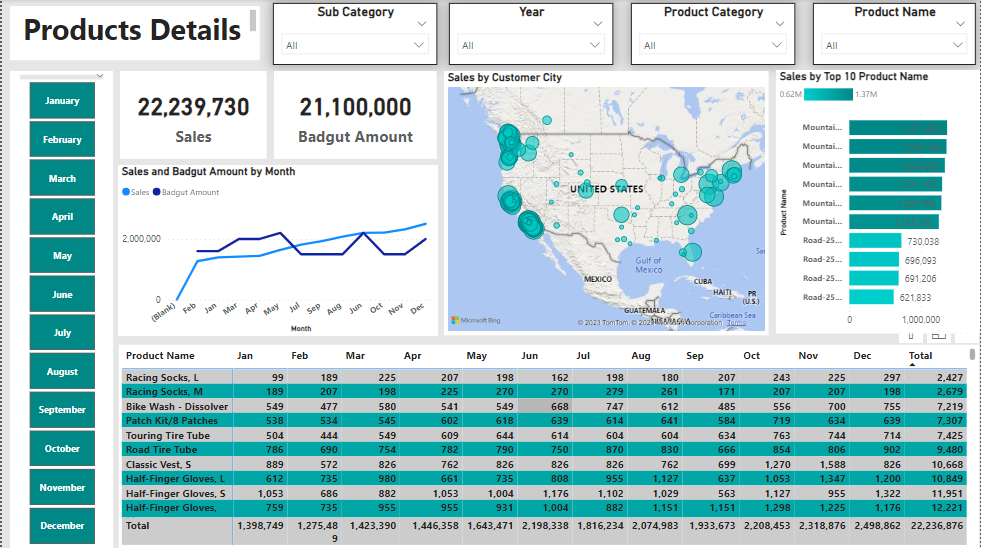

What the dashboard file says about the page in this screenshot:
{"tool":"powerbi","page":{"name":"Products Details","canvas":[1280,720],"ordinal":2},"visuals":[{"type":"textbox","box":[10.5,9.2,327.3,70.7],"z":0},{"type":"slicer","title":"Product Name","fields":{"Values":["DIM_Products.Product Name"]},"box":[1061.2,5.5,213.3,81.2],"z":1000},{"type":"slicer","title":"Year","fields":{"Values":["DIM_Calendar.Date.Variation.Date Hierarchy.Year"]},"box":[584.9,5.5,214.7,81.2],"z":2000},{"type":"slicer","title":"Product Category","fields":{"Values":["DIM_Products.Product Category"]},"box":[823.1,5.5,214.7,81.2],"z":3000},{"type":"slicer","title":"Sub Category","fields":{"Values":["DIM_Products.Sub Category"]},"box":[355.1,5.5,214.7,81.2],"z":4000},{"type":"slicer","fields":{"Values":["DIM_Calendar.Date.Variation.Date Hierarchy.Month"]},"box":[10.5,94.3,134.8,625.7],"z":5000},{"type":"card","fields":{"Values":["Key Measures.Sales"]},"box":[154.5,94.3,192.4,115.2],"z":6000},{"type":"card","fields":{"Values":["Key Measures.Badgut Amount"]},"box":[356.1,94.3,213.4,115.2],"z":7000},{"type":"lineChart","fields":{"Y":["Key Measures.Sales","Key Measures.Badgut Amount"],"Category":["DIM_Calendar.MonthShort"]},"box":[151.4,217.1,418.6,224.3],"z":8000},{"type":"pivotTable","fields":{"Rows":["DIM_Products.Product Name"],"Columns":["DIM_Calendar.MonthShort"],"Values":["Key Measures.Sales"]},"box":[151.9,451.6,1128.4,268.4],"z":9000},{"type":"map","fields":{"Category":["DIM_Customers.Customer City"],"Size":["Key Measures.Sales"]},"box":[578.6,94.3,425.5,345.6],"z":10000},{"type":"barChart","title":"Sales by Top 10 Product Name","fields":{"Y":["Key Measures.Sales"],"Category":["DIM_Products.Product Name"]},"box":[1013,93.6,267,345.5],"z":11000}]}

Visuals, with their boxes in screenshot pixels (x1, y1, x2, y2), scaled from the page's 1280x720 canvas onto the 981x548 screenshot:
textbox: [8, 7, 259, 61]
"Product Name" slicer: [813, 4, 977, 66]
"Year" slicer: [448, 4, 613, 66]
"Product Category" slicer: [631, 4, 795, 66]
"Sub Category" slicer: [272, 4, 437, 66]
slicer - DIM_Calendar.Date.Variation.Date Hierarchy.Month: [8, 72, 111, 547]
card - Key Measures.Sales: [118, 72, 266, 159]
card - Key Measures.Badgut Amount: [273, 72, 436, 159]
lineChart - Key Measures.Sales x Key Measures.Badgut Amount: [116, 165, 437, 336]
pivotTable - DIM_Products.Product Name x DIM_Calendar.MonthShort: [116, 344, 980, 547]
map - DIM_Customers.Customer City x Key Measures.Sales: [443, 72, 770, 335]
"Sales by Top 10 Product Name" barChart: [776, 71, 980, 334]
